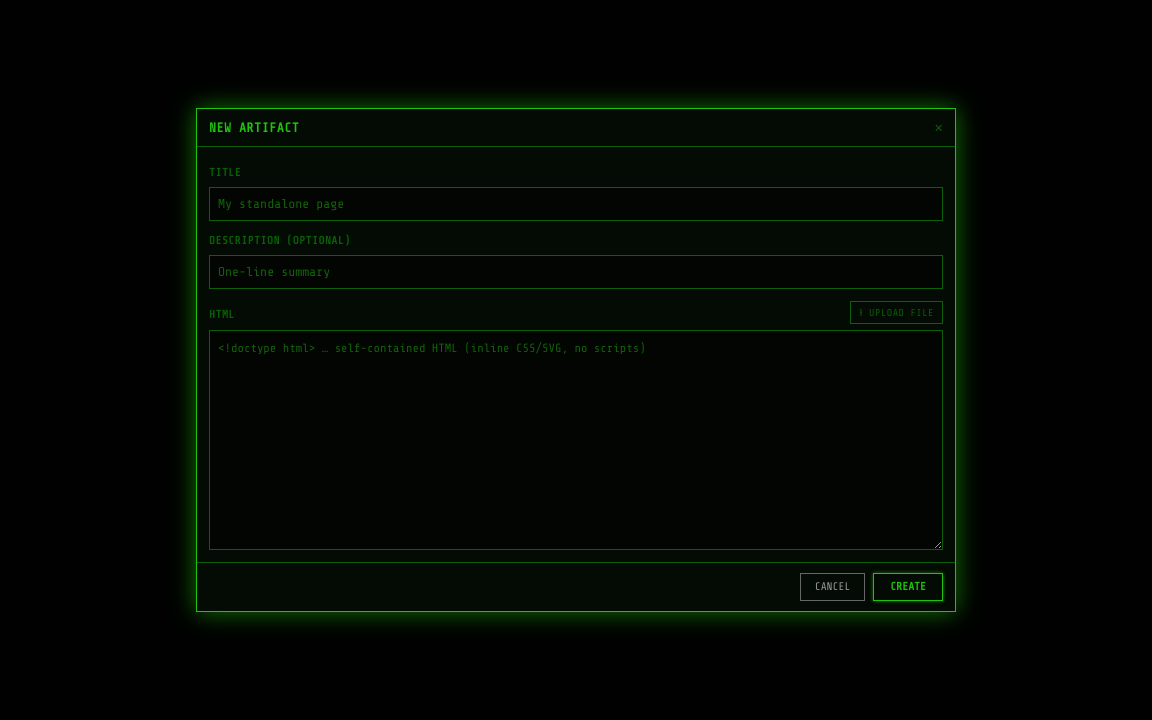
Test: CreateArtifactForm (adj-j7az6.3.4) › blocks submit when the title is empty
Replace the text in the text box labelled "HTML" with "<h1>Body</h1>": (576, 440) [209,330,943,550]
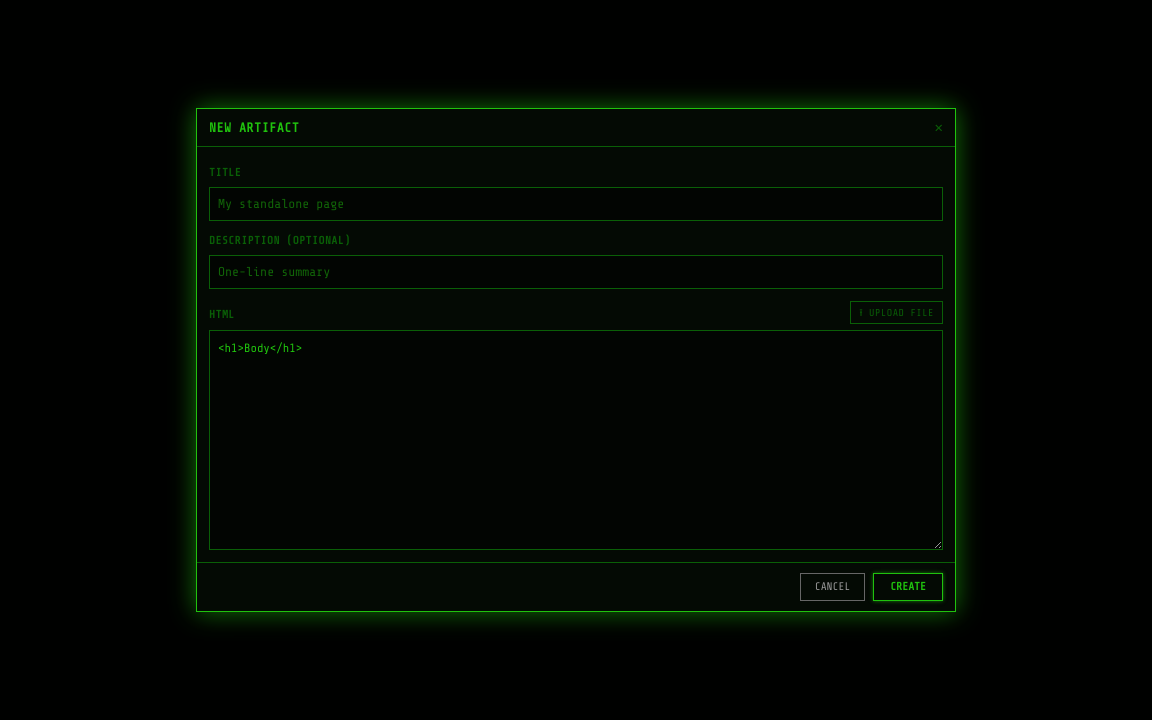
Click the button "CREATE": (908, 587) [873,573,943,601]
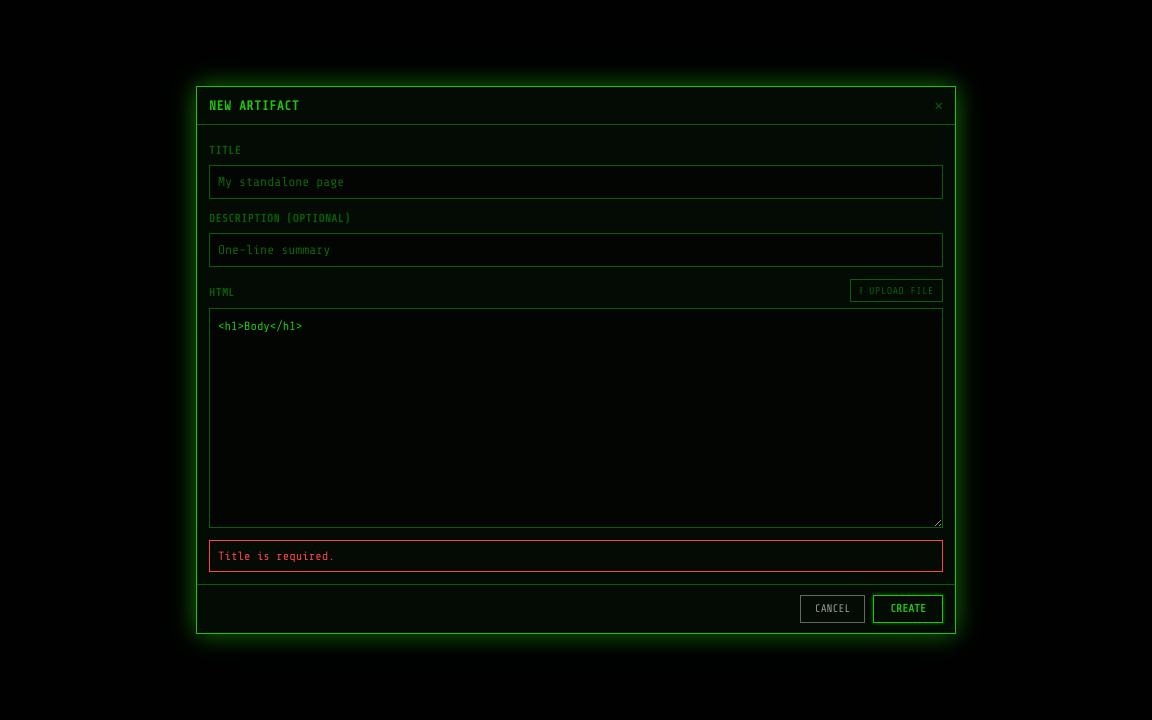
Result: the text "Title is required." is shown at [209,540,943,572]
